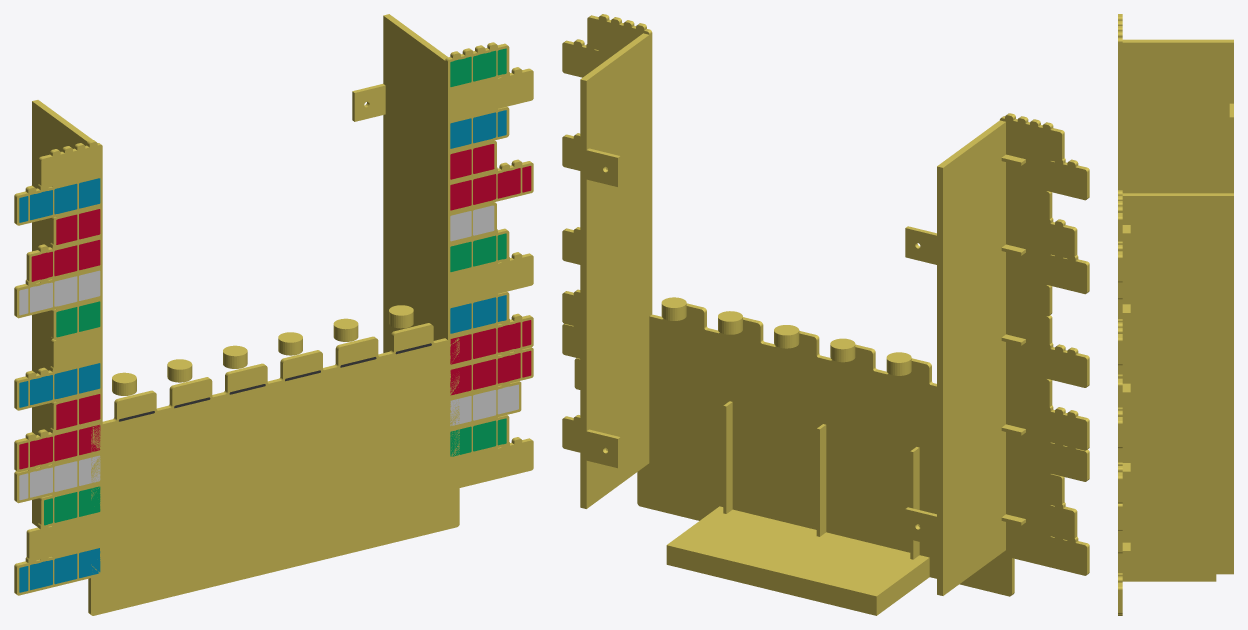
The model's file is parts.glb.
3 renders of one model, left to right at view 1: azimuth 30°, elevation 25°; view 2: azimuth 150°, elevation 25°; view 3: azimuth 270°, elevation 25°, orthographic. The views are drawn at different scales.
Visible parts, largest first — view 1: topper__base, wing_right__base, wing_left__base, wing_right__red, wing_left__blue, wing_left__red, wing_right__green, wing_left__white, wing_right__blue, wing_right__white, wing_left__green, topper__black; view 2: topper__base, wing_left__base, wing_right__base; view 3: wing_right__base, wing_left__base, topper__base.
Part boxes in pixels (x1,y1,x2,y2): topper__base: (88,305,459,615); wing_right__base: (352,14,533,490); wing_left__base: (14,100,102,595); wing_right__red: (450,144,531,395); wing_left__blue: (19,178,100,592); wing_left__red: (19,209,100,469); wing_right__green: (450,48,506,456); wing_left__white: (19,270,100,500); wing_right__blue: (450,110,506,333); wing_right__white: (450,205,518,425); wing_left__green: (44,301,100,525); topper__black: (119,343,431,421); topper__base: (637,297,1014,615); wing_left__base: (905,113,1089,595); wing_right__base: (562,14,652,508); wing_right__base: (1118,190,1233,613); wing_left__base: (1118,14,1233,193); topper__base: (1118,574,1216,615).
Bounding box in the file's own units: 337 × 295 × 73.
